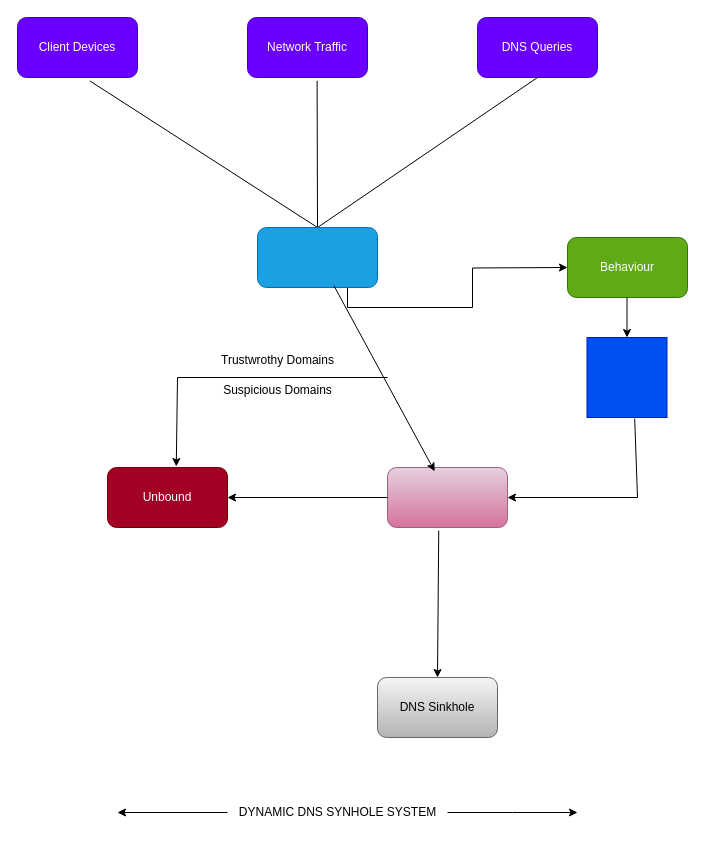
Image size: 705x845. Some labels were removed from this diagram. The centre of each missing label's shape, as x and y in pixels:
Classifier: 1. Frequency 2. TTl 3.Entropy: [626,377]
Domain Tru Scores: [447,497]
suricata: [317,257]
